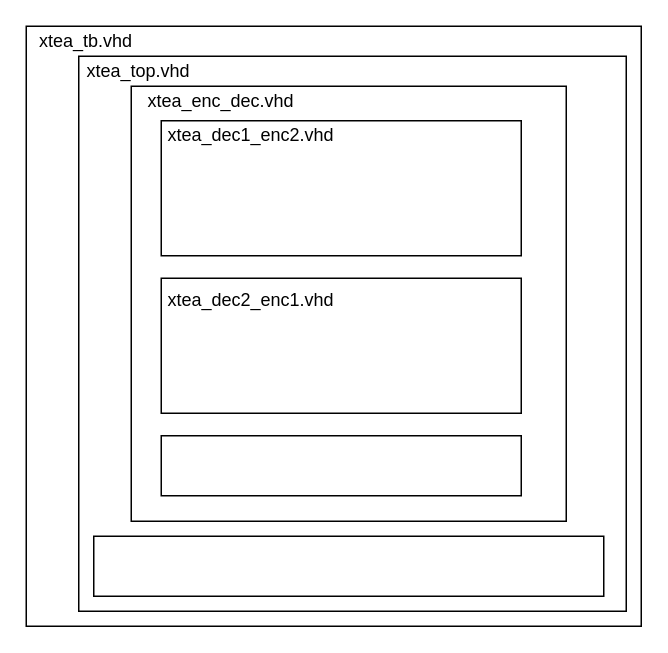
The diagram is 668 pixels wide and 653 high, and some of its shapes have lost their labels. The centre of each missing label's shape, as x and y in pixels:
Dec_Enc State Logic: (340,465)
Top State Logic: (348,565)
